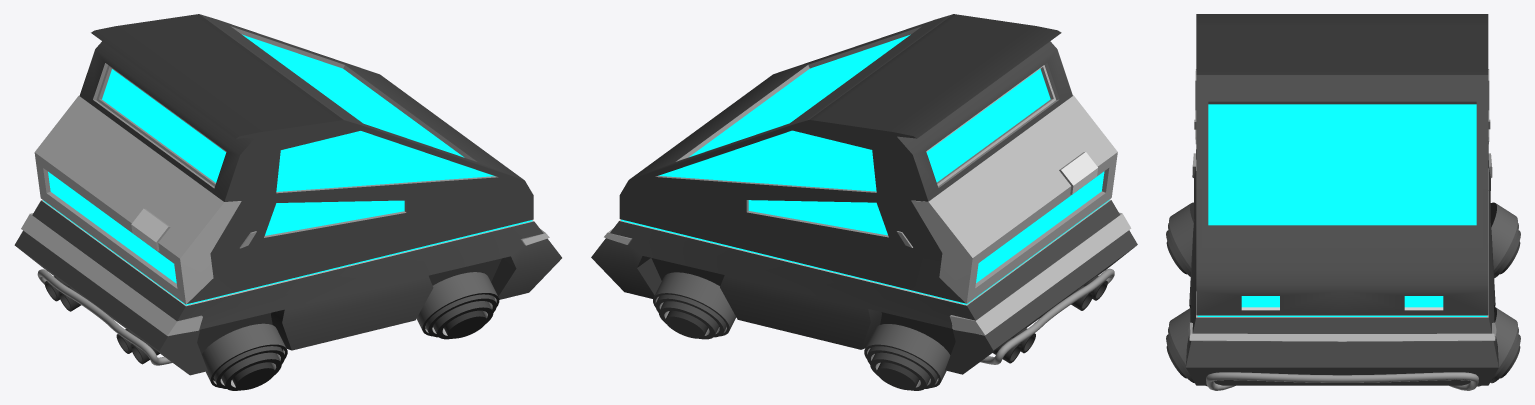
The model's file is SM_Car_A.fbx.
3 renders of one model, left to right at view 1: azimuth 30°, elevation 25°; view 2: azimuth 150°, elevation 25°; view 3: azimuth 270°, elevation 25°, orthographic.
Parts seen in each view (by area): view 1: SM_Car_A; view 2: SM_Car_A; view 3: SM_Car_A.
Boxes of the visible parts, x1,y1,x2,y2 form: SM_Car_A: (14,14,561,390); SM_Car_A: (591,14,1137,390); SM_Car_A: (1166,14,1520,390).
Size of the model in its own units: 148 by 89.86 by 111.
